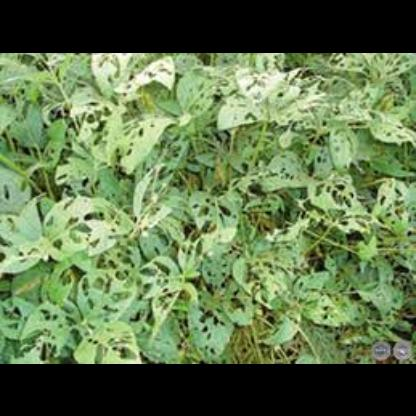agujero: (220, 199, 232, 221), (198, 201, 212, 217)
